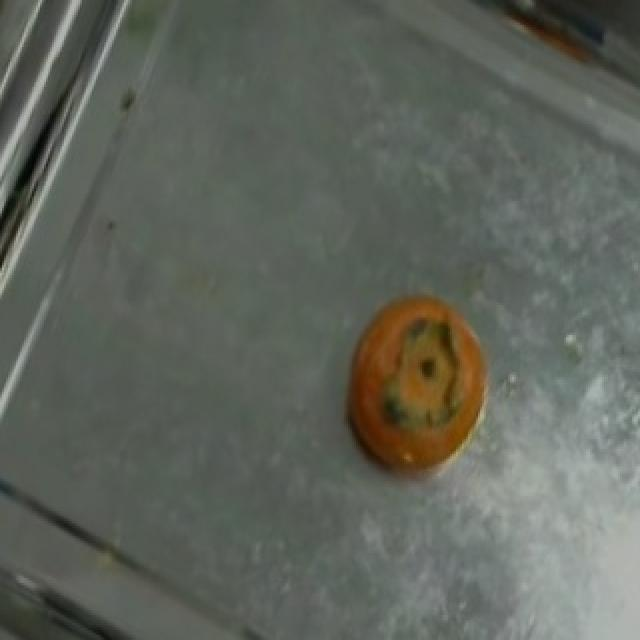Fruit: (326, 273, 496, 496)
